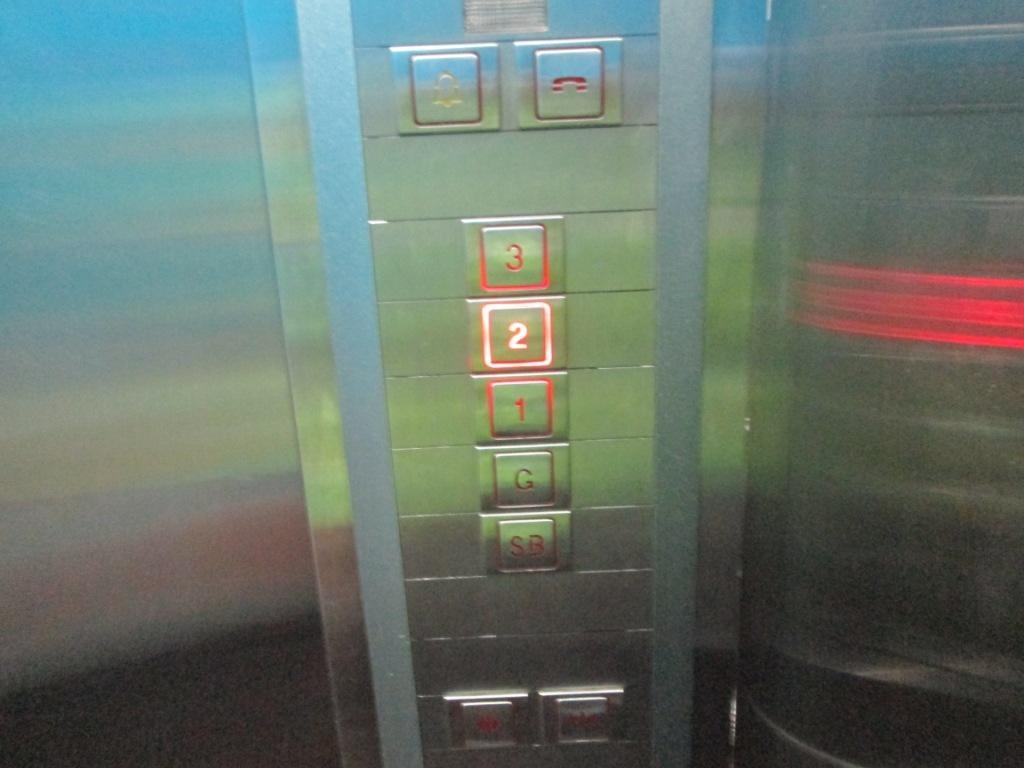1: (483, 375, 558, 443)
2: (476, 298, 557, 371)
3: (475, 218, 554, 295)
G: (489, 446, 560, 512)
SB: (492, 515, 561, 577)
alarm: (404, 46, 487, 130)
call: (526, 41, 610, 124)
close: (551, 693, 614, 747)
open: (450, 696, 522, 755)
